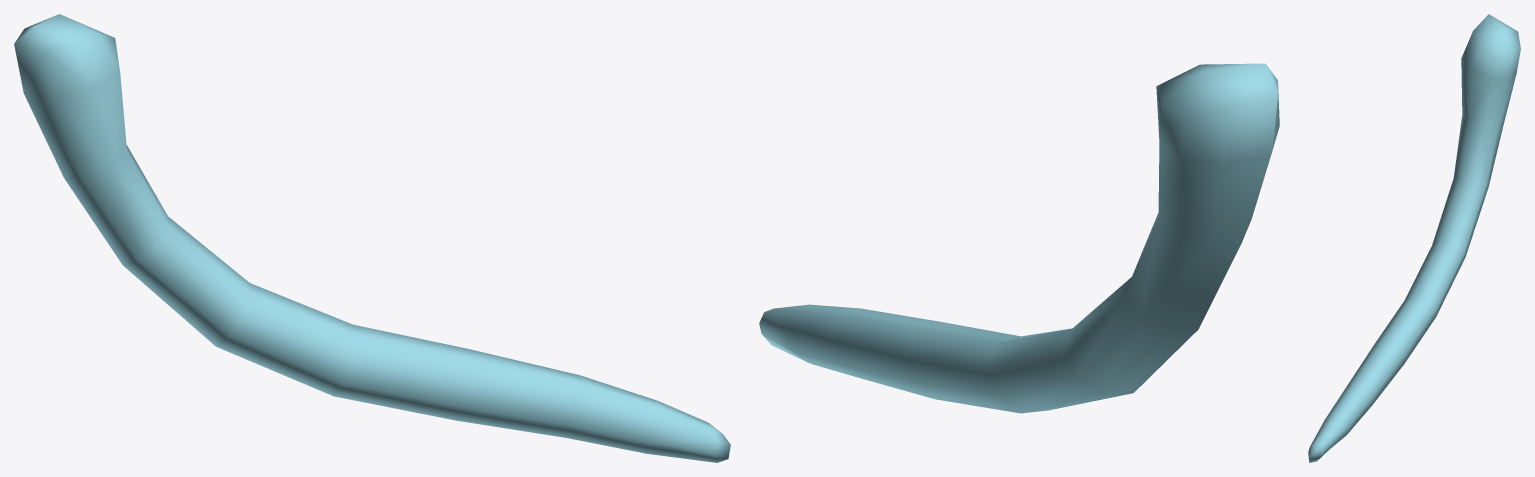
The picture shows the model from 3 angles, left to right: view 1: azimuth 30°, elevation 25°; view 2: azimuth 150°, elevation 25°; view 3: azimuth 270°, elevation 25°; orthographic projection. The views are drawn at different scales.
Visible parts, largest first — view 1: CC R5; view 2: CC R5; view 3: CC R5.
Boxes of the visible parts, box(x1,y1,x2,y2) form: CC R5: box(14, 14, 730, 462); CC R5: box(759, 63, 1279, 413); CC R5: box(1308, 14, 1520, 462).
Bounding box in the file's own units: 2.3 × 1.79 × 1.21.
